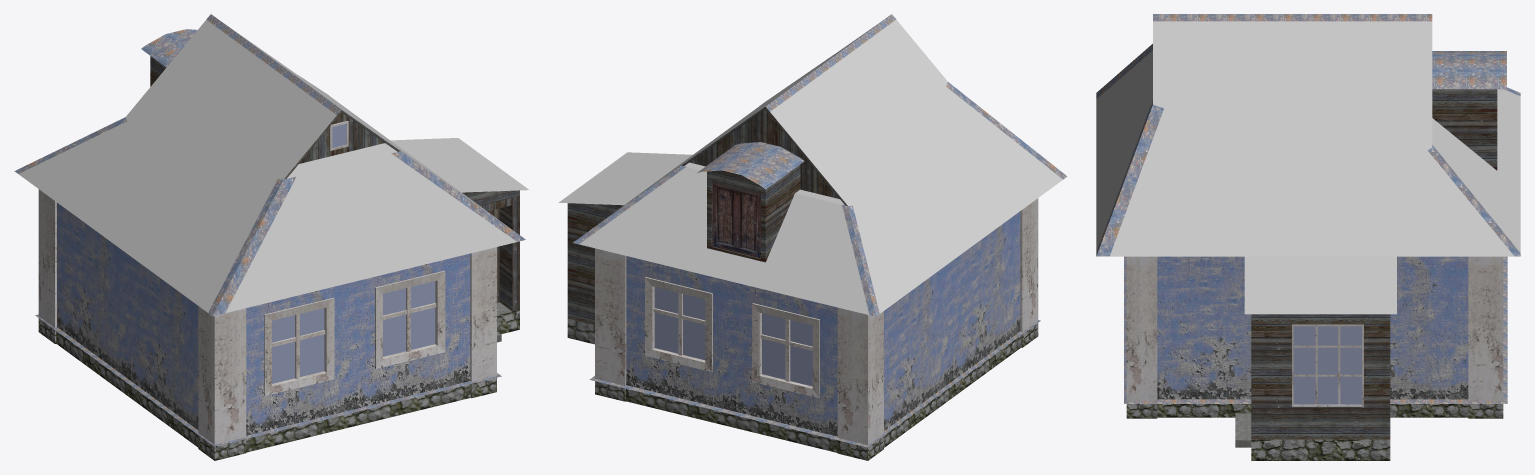
The model's file is Default_House.FBX.
3 views of the same model, side by side, from view 1: azimuth 30°, elevation 25°; view 2: azimuth 150°, elevation 25°; view 3: azimuth 270°, elevation 25° (orthographic). The views are drawn at different scales.
Visible parts, largest first — view 1: Def_House; view 2: Def_House; view 3: Def_House.
Part boxes in pixels (box(x1,y1,x2,y2)): Def_House: box(14, 14, 528, 460); Def_House: box(558, 14, 1067, 460); Def_House: box(1096, 14, 1520, 460).
Size of the model in its own units: 303 by 231 by 269.
